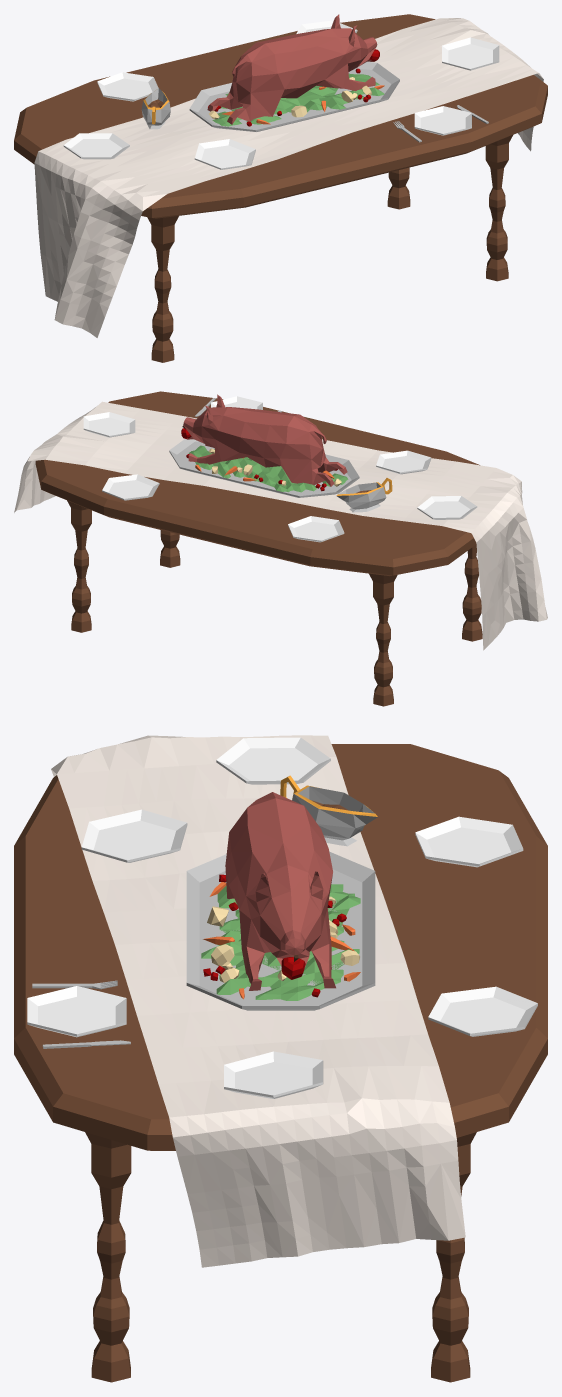
File: dining_table.fbx
The picture shows the model from 3 angles, top to bottom: view 1: azimuth 30°, elevation 25°; view 2: azimuth 150°, elevation 25°; view 3: azimuth 270°, elevation 25°; orthographic projection. The views are drawn at different scales.
Parts seen in each view (by area): view 1: cloth, wooden, pig, platter, lettuce, pCylinder6, pCylinder2, pCylinder3, pCylinder1, pCylinder4, gravy_boat; view 2: wooden, cloth, pig, platter, lettuce, gravy_boat, pCylinder5, pCylinder4, pCylinder3, pCylinder6, pCylinder2, pCylinder1; view 3: cloth, wooden, pig, platter, lettuce, pCylinder2, pCylinder3, pCylinder5, pCylinder4, pCylinder1, pCylinder6, gravy_boat.
Boxes of the visible parts, x1,y1,x2,y2 form: cloth: [34, 18, 543, 337]; wooden: [14, 14, 547, 362]; pig: [207, 14, 377, 124]; platter: [189, 61, 399, 131]; lettuce: [212, 73, 384, 126]; pCylinder6: [442, 37, 499, 70]; pCylinder2: [194, 139, 255, 169]; pCylinder3: [63, 133, 129, 159]; pCylinder1: [414, 106, 471, 135]; pCylinder4: [97, 72, 158, 101]; gravy_boat: [141, 88, 170, 129]; wooden: [35, 391, 482, 706]; cloth: [14, 401, 547, 650]; pig: [183, 394, 347, 486]; platter: [169, 439, 359, 497]; lettuce: [188, 445, 348, 492]; gravy_boat: [336, 478, 392, 512]; pCylinder5: [102, 474, 159, 500]; pCylinder4: [288, 516, 344, 542]; pCylinder3: [417, 496, 477, 519]; pCylinder6: [83, 412, 135, 437]; pCylinder2: [376, 450, 431, 474]; pCylinder1: [211, 396, 262, 409]; cloth: [51, 735, 465, 1267]; wooden: [14, 744, 547, 1382]; pig: [225, 792, 335, 990]; platter: [186, 851, 375, 1010]; lettuce: [201, 884, 360, 1000]; pCylinder2: [81, 809, 187, 862]; pCylinder3: [216, 737, 330, 784]; pCylinder5: [428, 986, 537, 1036]; pCylinder4: [415, 816, 523, 867]; pCylinder1: [27, 986, 126, 1037]; pCylinder6: [224, 1051, 323, 1098]; gravy_boat: [280, 775, 377, 846].
Size of the model in its own units: 7.51 by 3.49 by 4.
Materials: 1 (1 with a texture image).
